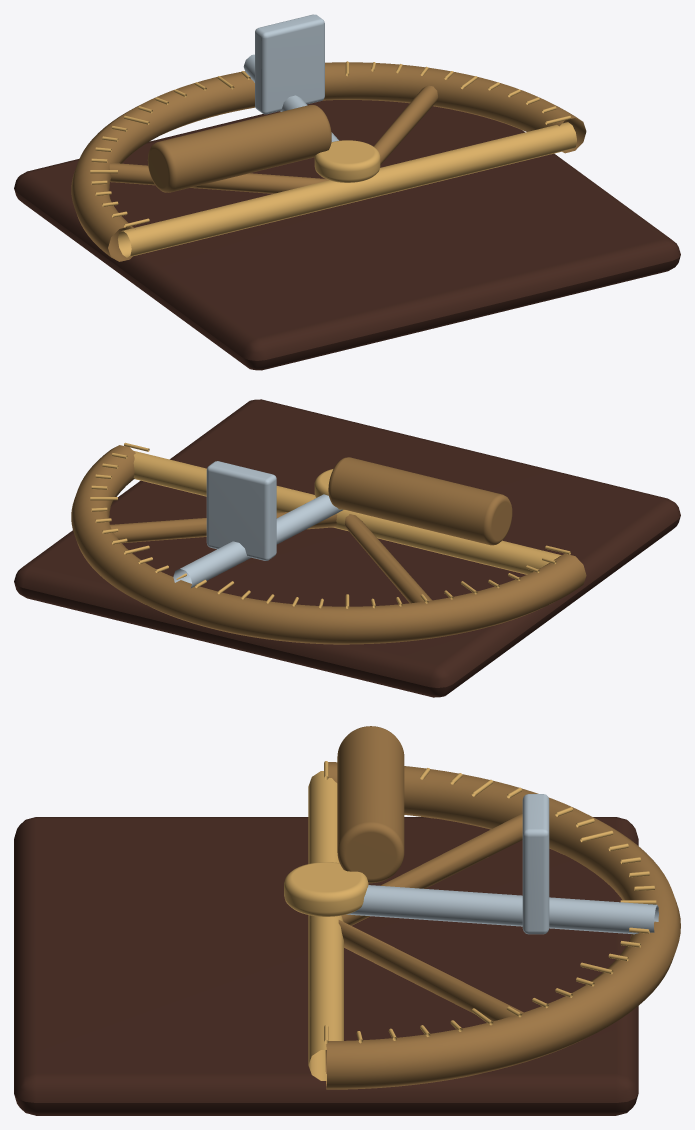
Rendered from sort-sextant-v1.glb.
3 renders of one model, top to bottom at view 1: azimuth 30°, elevation 25°; view 2: azimuth 150°, elevation 25°; view 3: azimuth 270°, elevation 25°, orthographic. The views are drawn at different scales.
Visible parts, largest first — view 1: SextantCase, GraduatedArc, FrameRadials, SightingScope, IndexMirror, FrameBracing, IndexBoss, IndexArm; view 2: SextantCase, GraduatedArc, SightingScope, FrameRadials, IndexMirror, FrameBracing, IndexArm; view 3: SextantCase, GraduatedArc, SightingScope, IndexArm, FrameBracing, FrameRadials, IndexMirror, IndexBoss.
Part boxes in pixels (bbox=[...]): SextantCase: bbox=[14, 100, 680, 370]; GraduatedArc: bbox=[71, 62, 586, 261]; FrameRadials: bbox=[118, 122, 576, 257]; SightingScope: bbox=[147, 105, 331, 192]; IndexMirror: bbox=[255, 14, 324, 114]; FrameBracing: bbox=[109, 85, 437, 193]; IndexBoss: bbox=[314, 140, 380, 182]; IndexArm: bbox=[243, 54, 338, 141]; SextantCase: bbox=[14, 399, 680, 697]; GraduatedArc: bbox=[71, 445, 586, 644]; SightingScope: bbox=[328, 457, 512, 545]; FrameRadials: bbox=[133, 450, 561, 574]; IndexMirror: bbox=[206, 461, 276, 560]; FrameBracing: bbox=[110, 512, 431, 603]; IndexArm: bbox=[173, 494, 342, 587]; SextantCase: bbox=[14, 817, 638, 1115]; GraduatedArc: bbox=[325, 762, 680, 1089]; SightingScope: bbox=[337, 726, 404, 883]; IndexArm: bbox=[346, 885, 658, 934]; FrameBracing: bbox=[338, 814, 523, 1021]; FrameRadials: bbox=[308, 771, 343, 1080]; IndexMirror: bbox=[522, 794, 549, 934]; IndexBoss: bbox=[284, 862, 368, 916].
Size of the model in its own units: 1.59 by 0.47 by 1.5.
